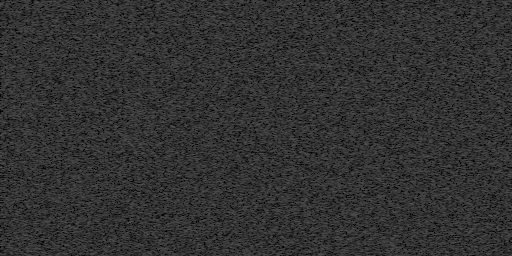wv_cw: (70, 0, 75, 256)
wv_usb: (242, 173, 246, 215), (242, 5, 247, 21), (242, 149, 246, 159), (242, 27, 246, 33), (243, 66, 246, 71), (243, 79, 246, 82)
wv_wbfm: (273, 0, 283, 240), (215, 0, 224, 256), (386, 0, 394, 256), (274, 241, 283, 256)
